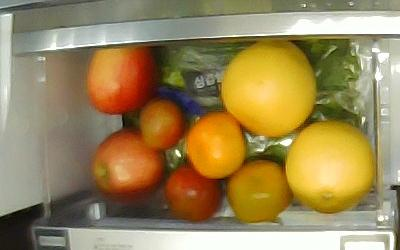apple: (91, 128, 165, 204), (86, 46, 156, 115)
grapefruit: (221, 40, 315, 136), (285, 120, 373, 215)
persimmon: (226, 159, 291, 223), (186, 112, 245, 177)
prune: (165, 163, 222, 223), (139, 99, 186, 151)
